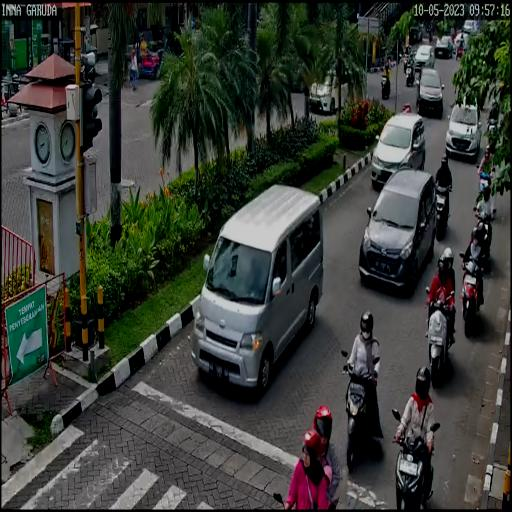mobil: (191, 180, 325, 394), (356, 164, 438, 296), (368, 107, 429, 197), (442, 97, 484, 167), (416, 57, 448, 122)
motor: (392, 405, 436, 512), (342, 346, 380, 467), (425, 278, 459, 395), (460, 249, 482, 344), (475, 202, 498, 259), (434, 172, 451, 238)
